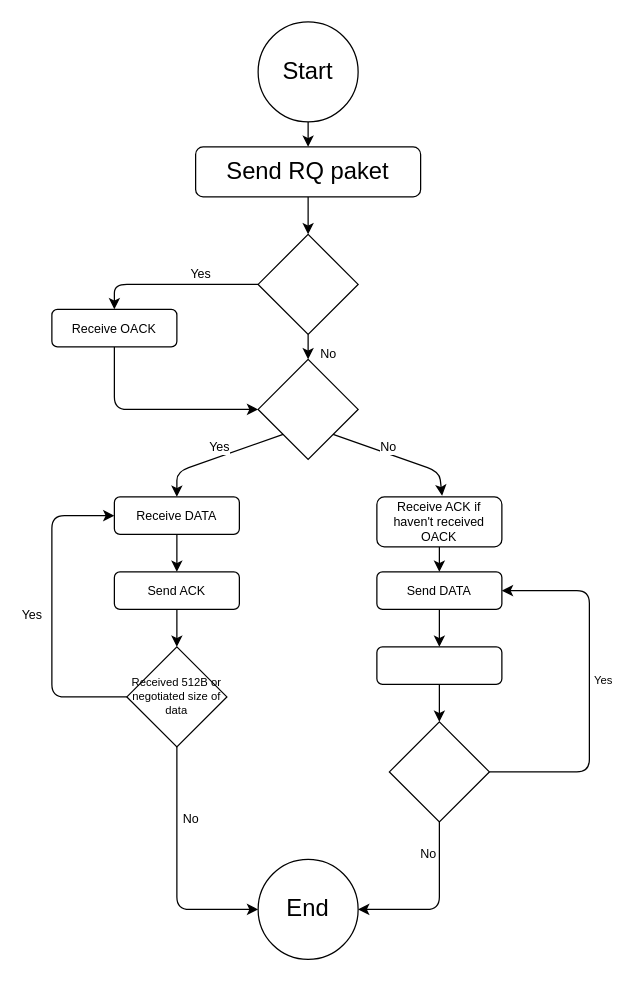
The diagram is 634 pixels wide and 981 high, and some of its shapes have lost their labels. The centre of each missing label's shape, as x and y in pixels:
"Is client negotiating options?" goes at point (307, 283).
"Is it download?" goes at point (307, 408).
"Receive ACK" goes at point (439, 665).
"Sent 512B or negotiated size of data" goes at point (438, 771).
